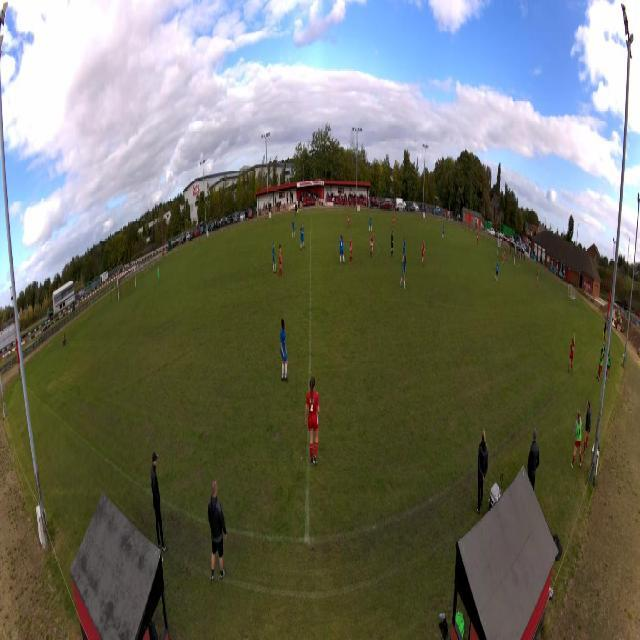ball: (502, 260, 503, 264)
player: (304, 376, 320, 466), (280, 320, 289, 382), (567, 333, 575, 373), (400, 255, 407, 289), (339, 235, 346, 264), (272, 242, 277, 273), (420, 240, 425, 268), (279, 243, 283, 277), (300, 222, 304, 251), (349, 236, 353, 265), (402, 236, 406, 264), (370, 232, 374, 259), (391, 231, 395, 258), (495, 260, 500, 281), (369, 213, 373, 234), (347, 211, 351, 230), (157, 265, 160, 286), (292, 217, 295, 237), (502, 250, 506, 265), (536, 269, 539, 288), (442, 222, 445, 240), (393, 213, 395, 229), (477, 231, 479, 246)
